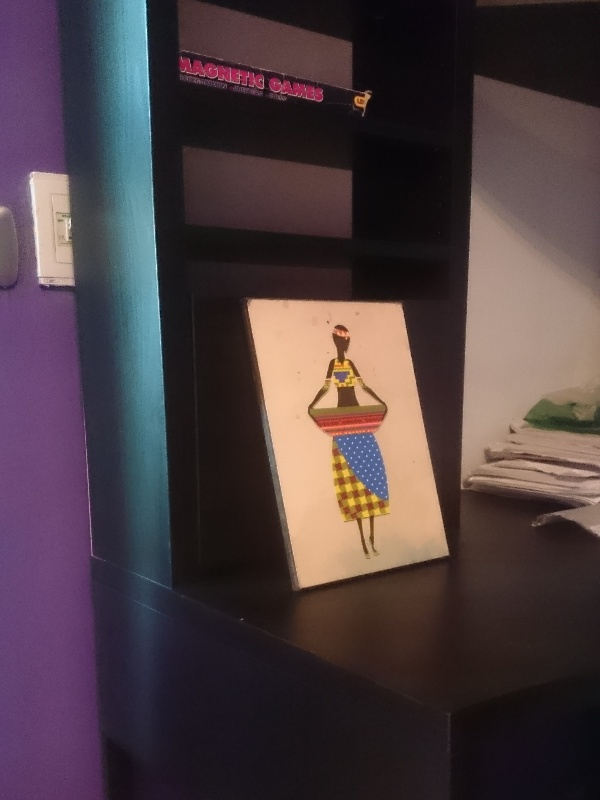my image: (245, 299, 446, 593)
